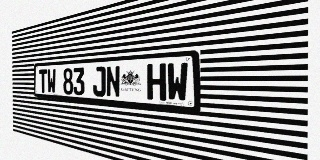3: (73, 67, 84, 96)
8: (63, 68, 73, 95)
H: (147, 63, 166, 101)
J: (93, 66, 106, 97)
N: (106, 66, 120, 98)
T: (39, 69, 47, 93)
W: (167, 62, 188, 102), (47, 69, 56, 94)
